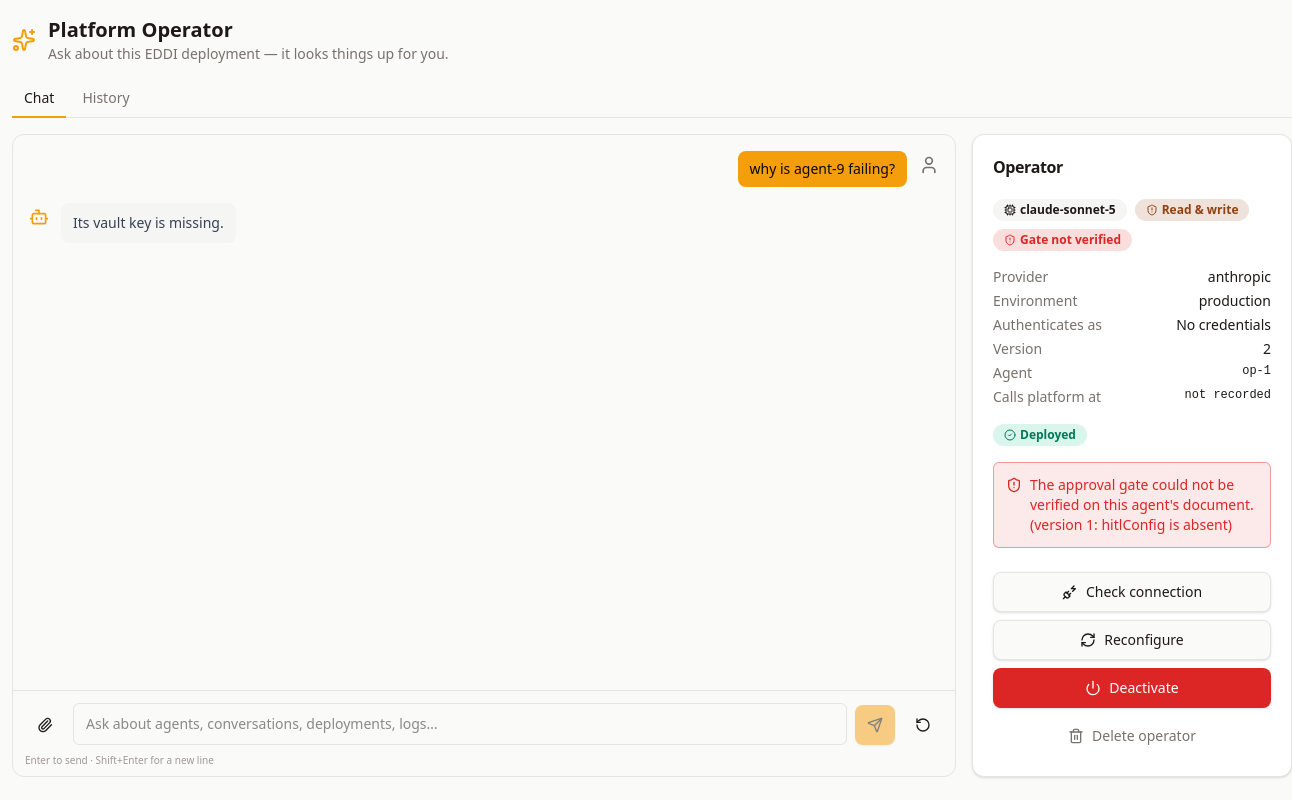
Test: OperatorPage — conversation history › lists the operator's past conversations under the History tab
Click the tab with test id "operator-tab-history" at (106, 99), box [70,80,142,118]
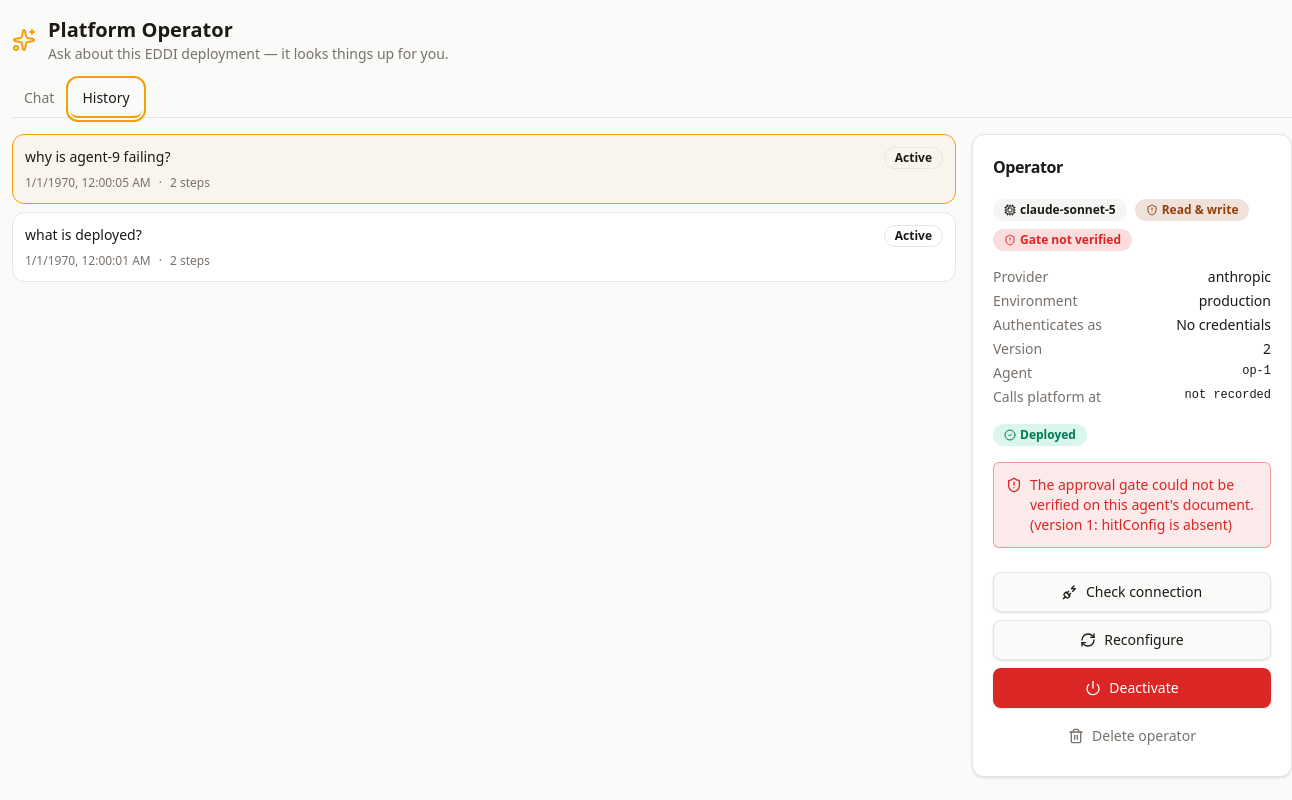
Expected: the text "why is agent-9 failing?" is shown, [25,147,170,167]
Expected: the text "what is deployed?" is shown, [25,225,142,245]
